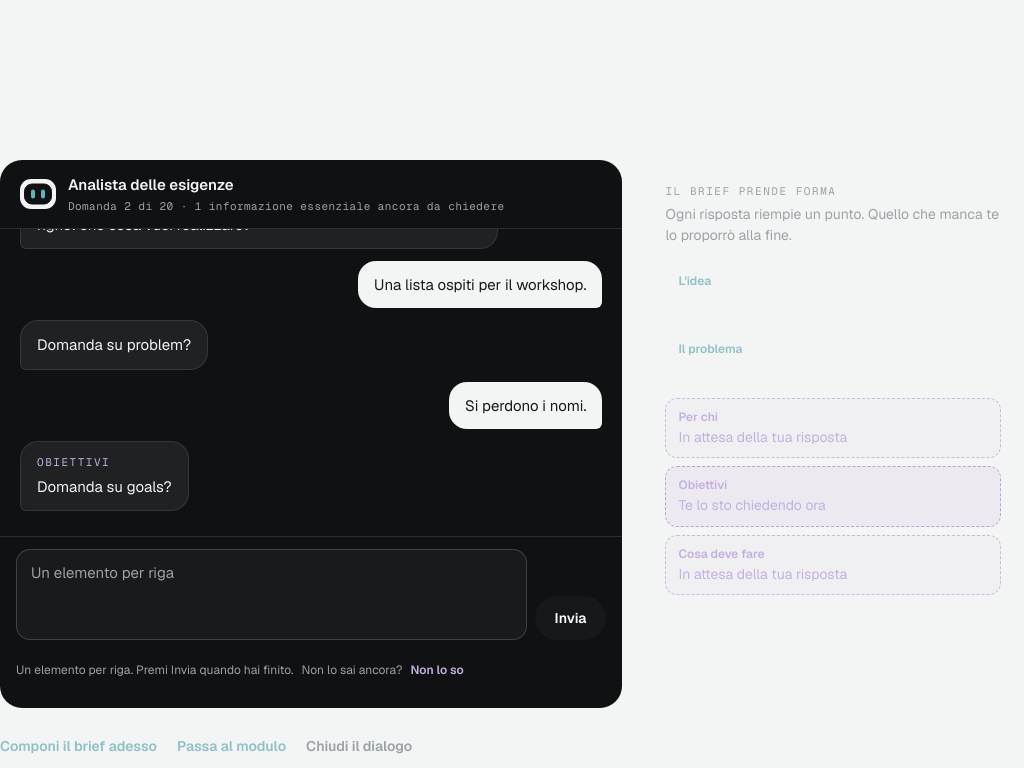
Test case: project brief dialogue › names no step by its old name and speaks of no team in it
(page scrolled)
Check: the element with test id "brief-dialogue-pending" is shown, box [20,441,189,511]
Step 1. Click the button with test id "brief-dialogue-compose" → [78, 746], box [0,724,157,767]
(page scrolled)
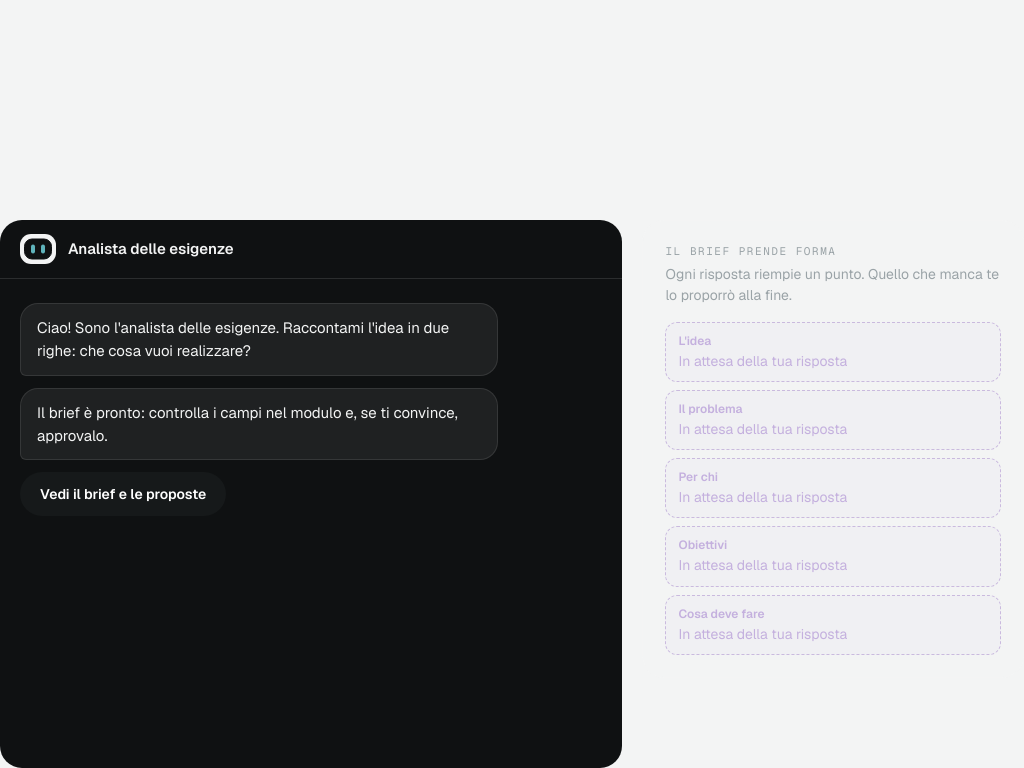
Check: the element with test id "brief-dialogue-synthesized" is shown, box [20,388,498,460]
